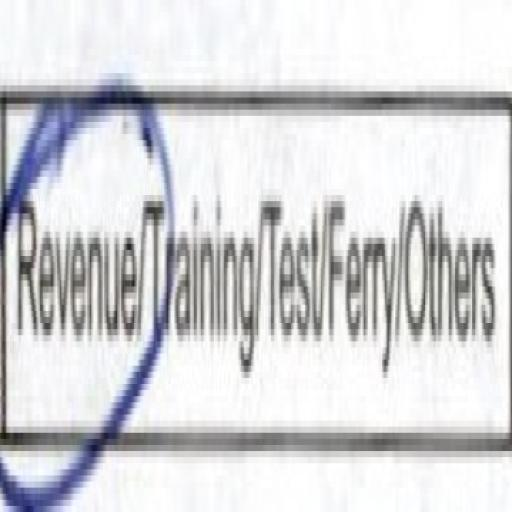check: (0, 40, 143, 512)
